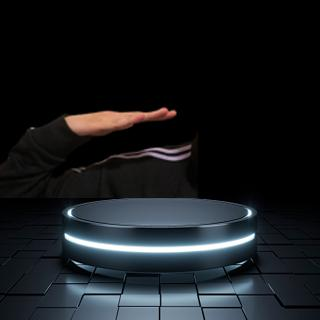Wait: (55, 98, 186, 143)
